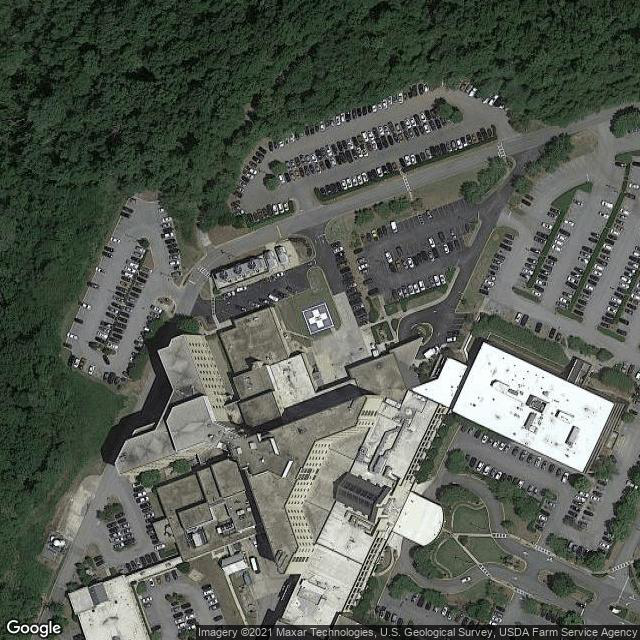Helipad: (298, 302, 335, 333)
